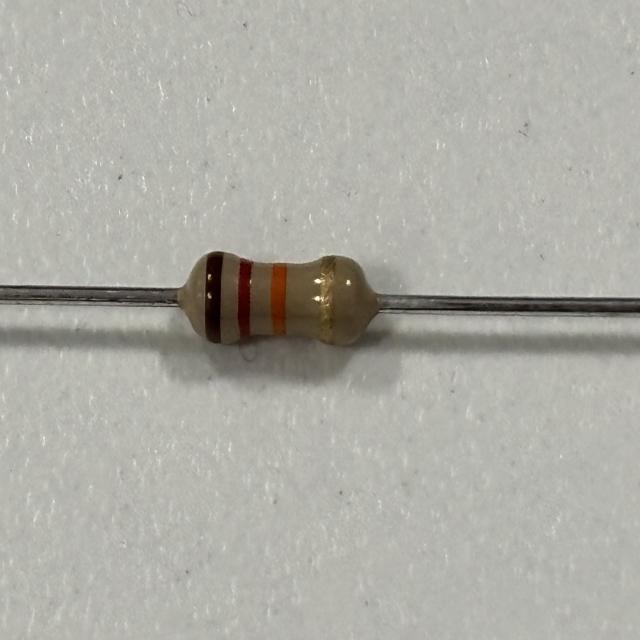resistor: (191, 249, 363, 349)
